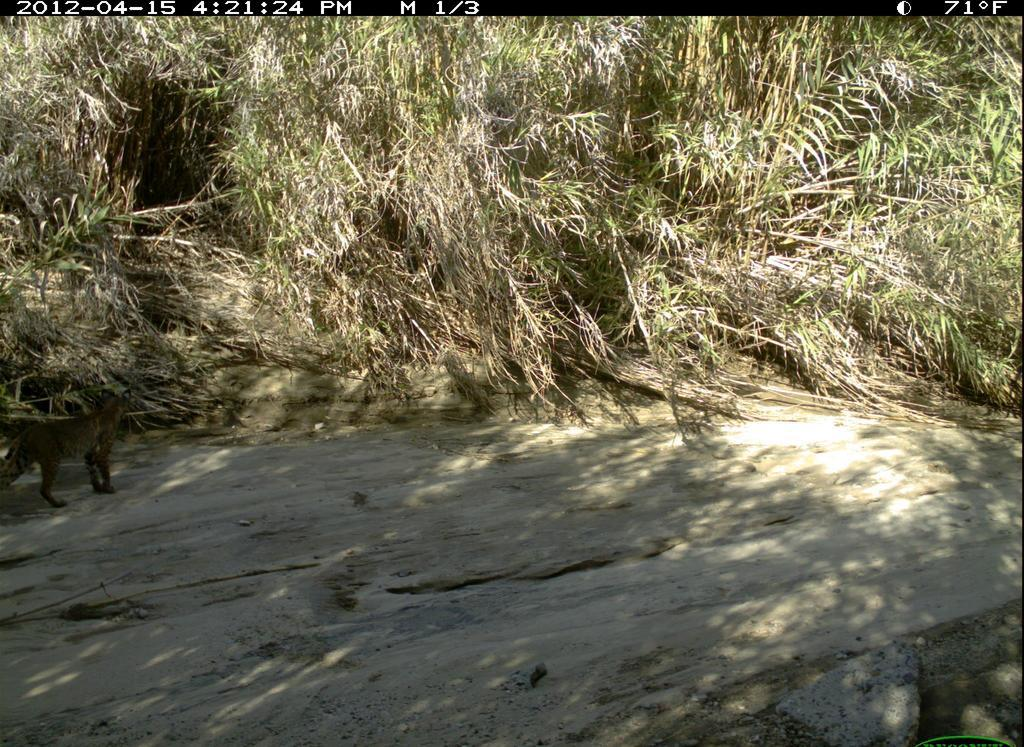bobcat: (4, 378, 181, 518)
